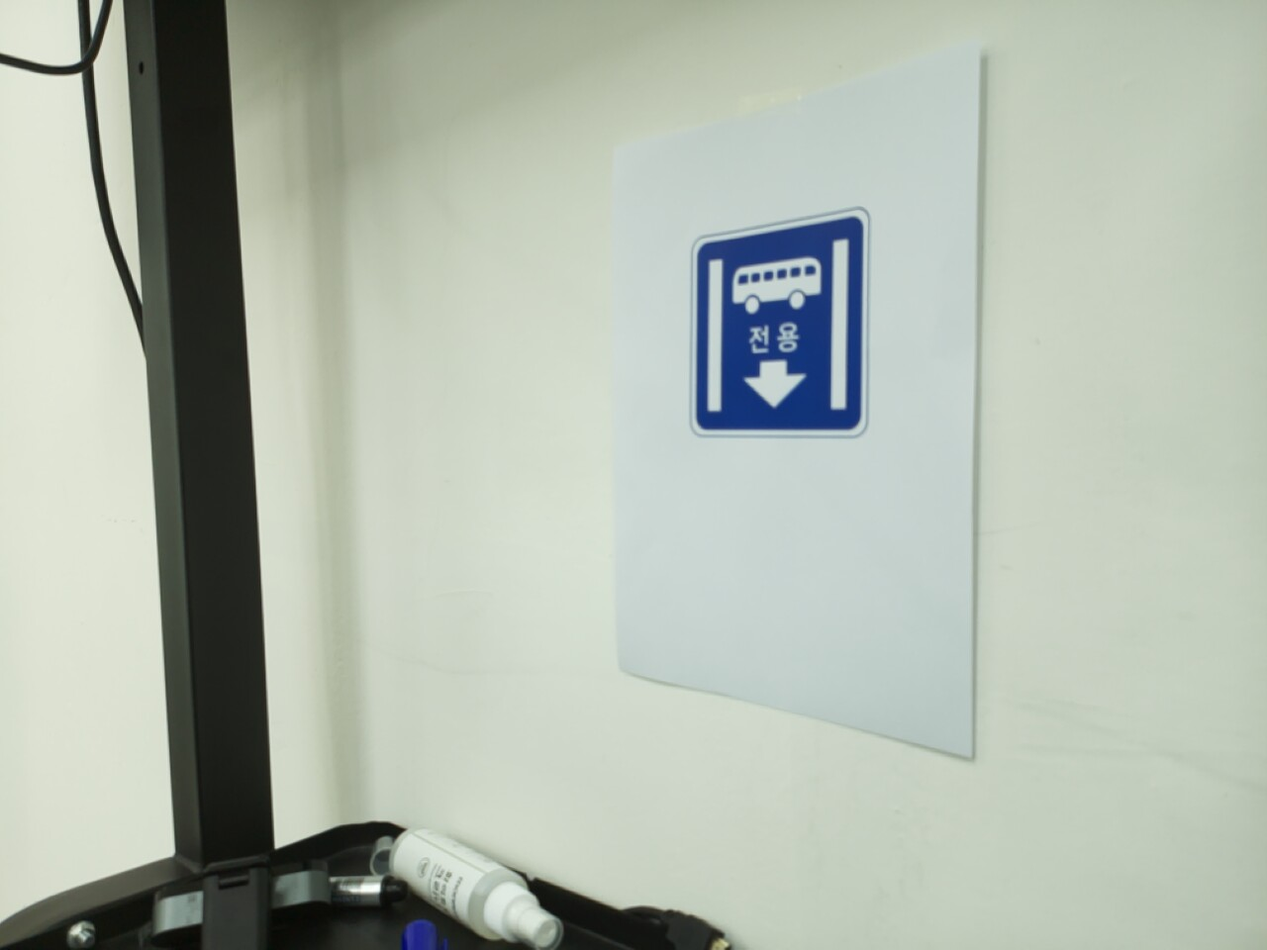bus_only_lane: (689, 209, 871, 438)
